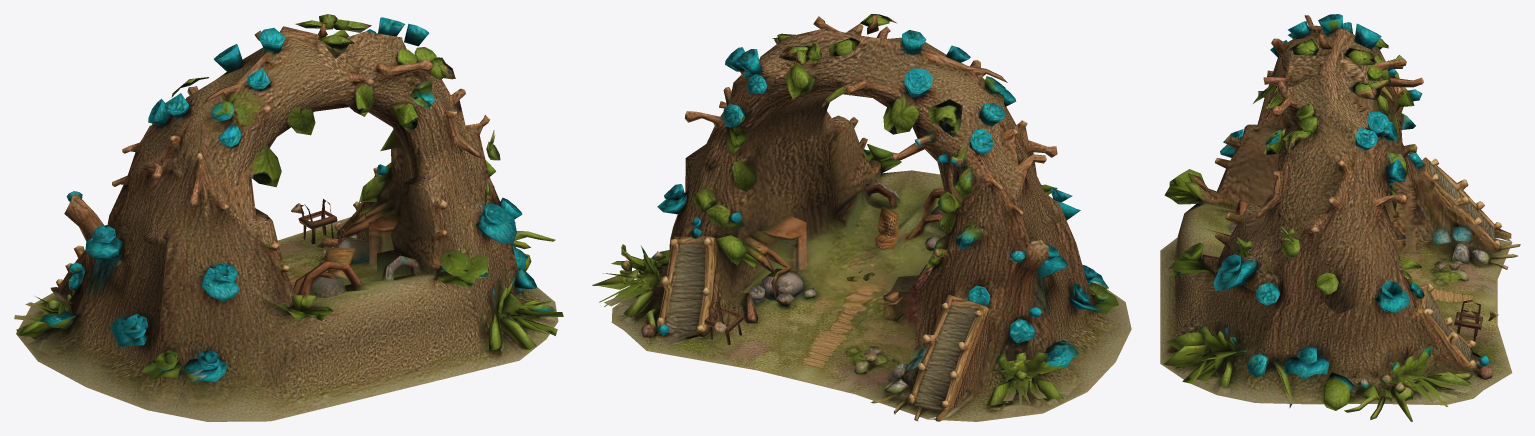
The model's file is lioraen_thornhall.glb.
3 renders of one model, left to right at view 1: azimuth 30°, elevation 25°; view 2: azimuth 150°, elevation 25°; view 3: azimuth 270°, elevation 25°, orthographic. The views are drawn at different scales.
Size of the model in its own units: 0.6791 by 0.4 by 0.4585.
1 material, 1 textured.
